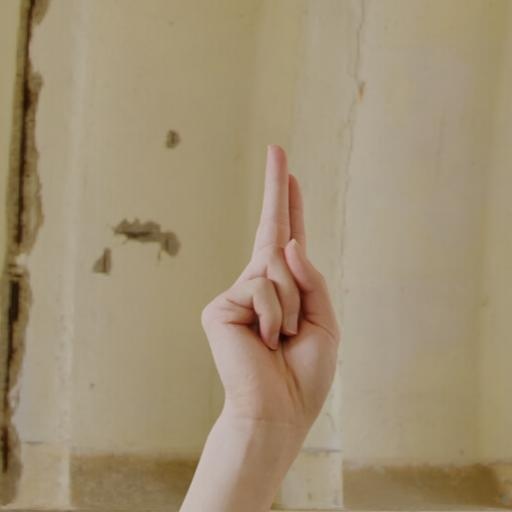U: (171, 127, 391, 459)
